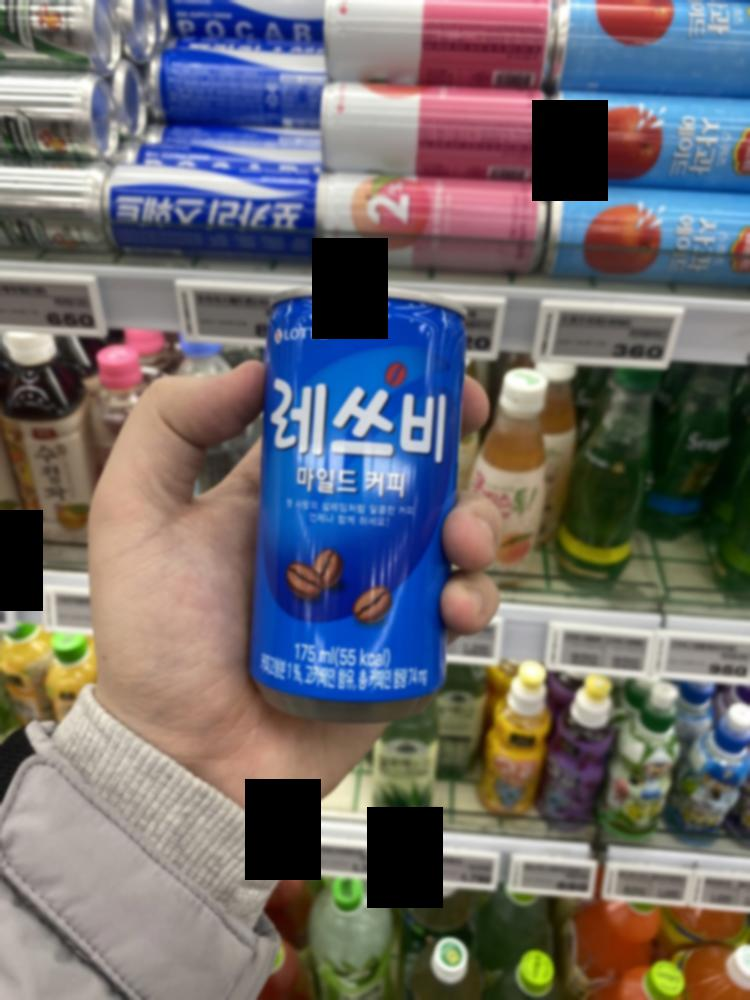letsbe: (238, 280, 454, 732)
